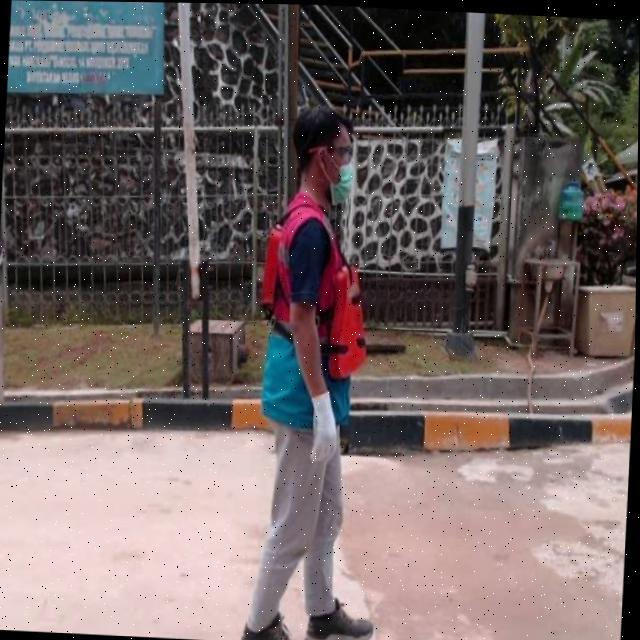goggles_on: (307, 140, 358, 164)
